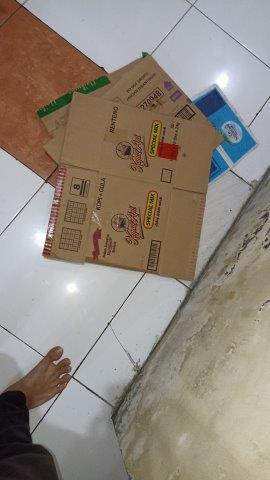kardus: (38, 56, 257, 279)
